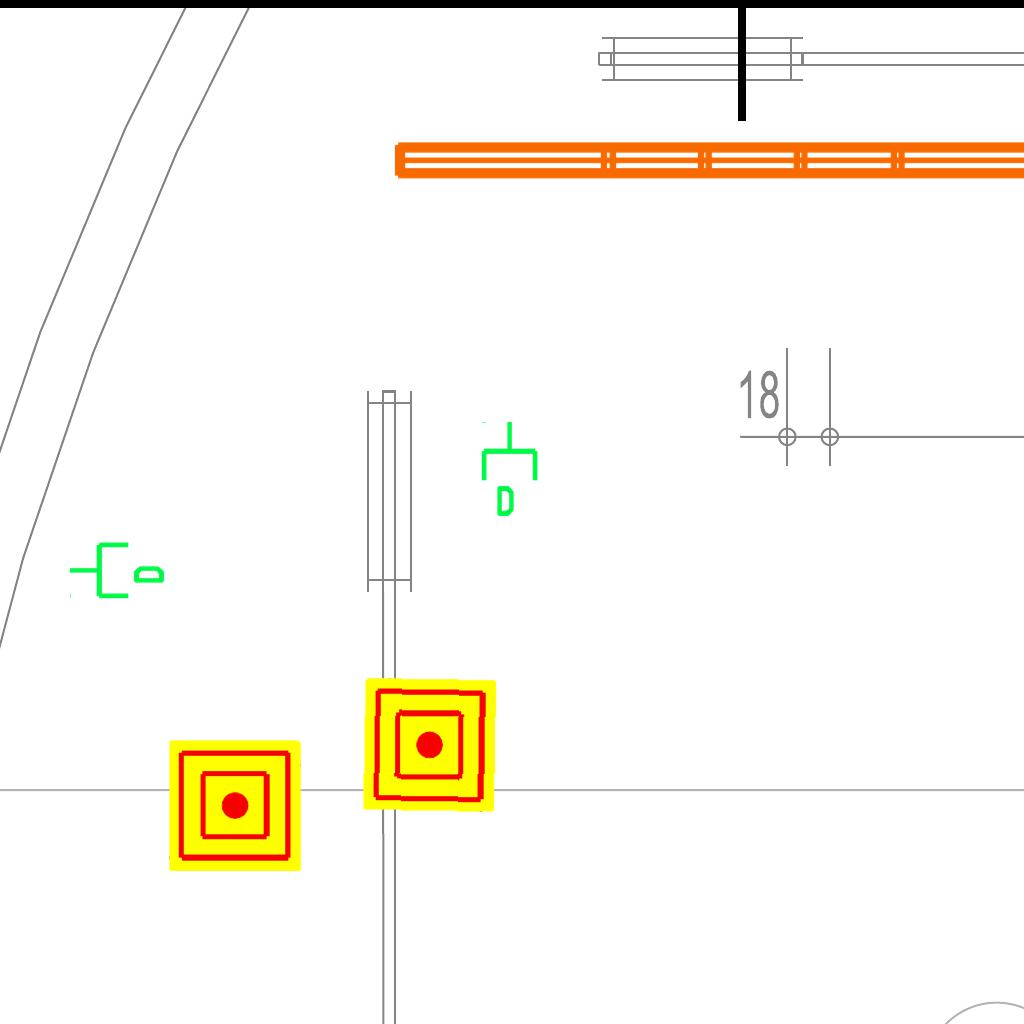Ambulanz_Pendelleuchte_LED: (384, 79, 1024, 191)
Datenanschluss_einfach: (67, 534, 167, 603), (477, 419, 546, 519)
NAM-Nichtautomatischer_Melder: (362, 677, 498, 813), (169, 740, 301, 872)
